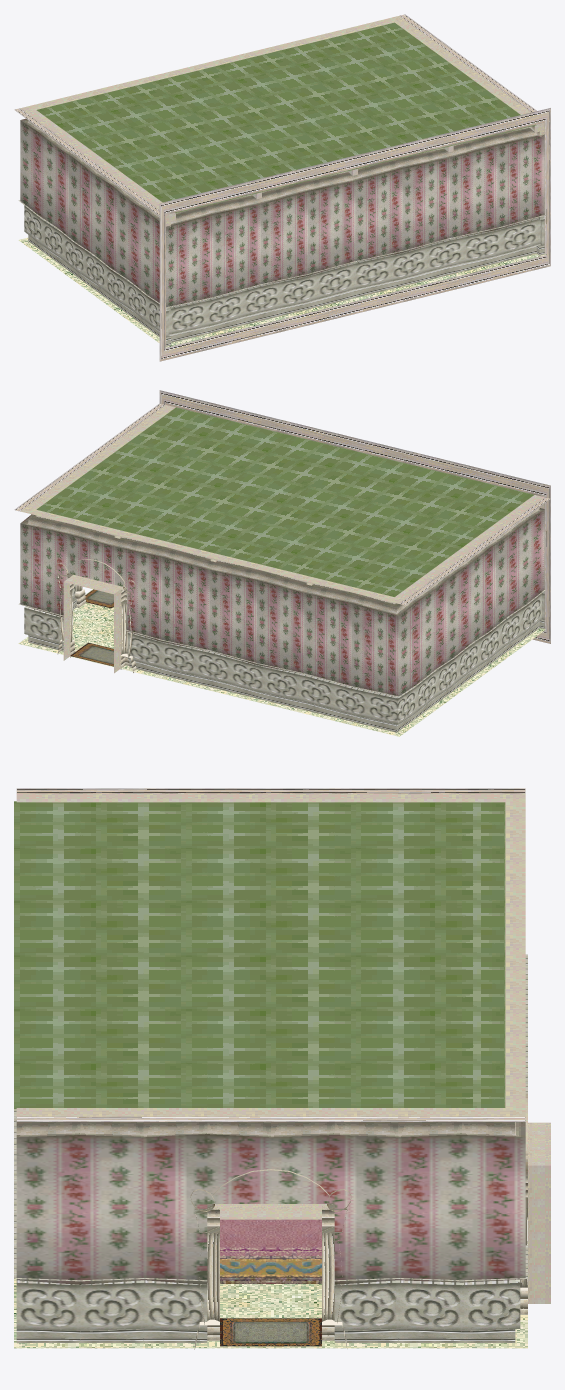
The model's file is room_27.glb.
3 views of the same model, one above another, from view 1: azimuth 30°, elevation 25°; view 2: azimuth 150°, elevation 25°; view 3: azimuth 270°, elevation 25° (orthographic). The views are drawn at different scales.
Parts seen in each view (by area): view 1: room_27; view 2: room_27; view 3: room_27.
Boxes of the visible parts, x1,y1,x2,y2 form: room_27: [14, 14, 550, 361]; room_27: [14, 390, 550, 736]; room_27: [14, 788, 550, 1349].
Bounding box in the file's own units: 1575 × 600 × 1055.
Materials: 25 (25 with a texture image).
